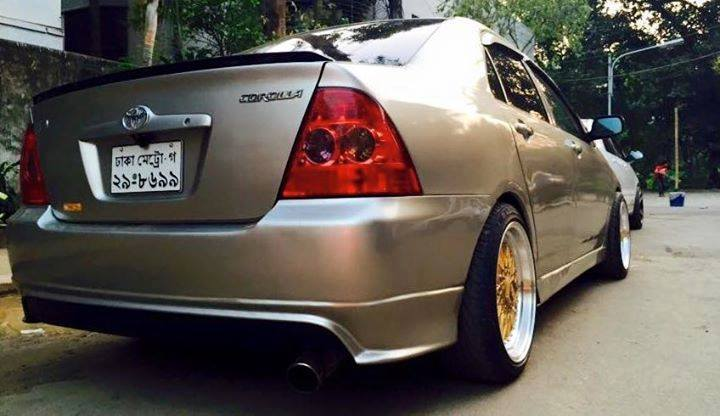registration_plate: (110, 139, 182, 193)
